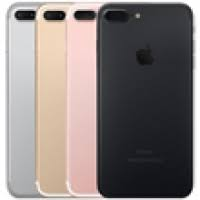iphone: (95, 1, 193, 198)
